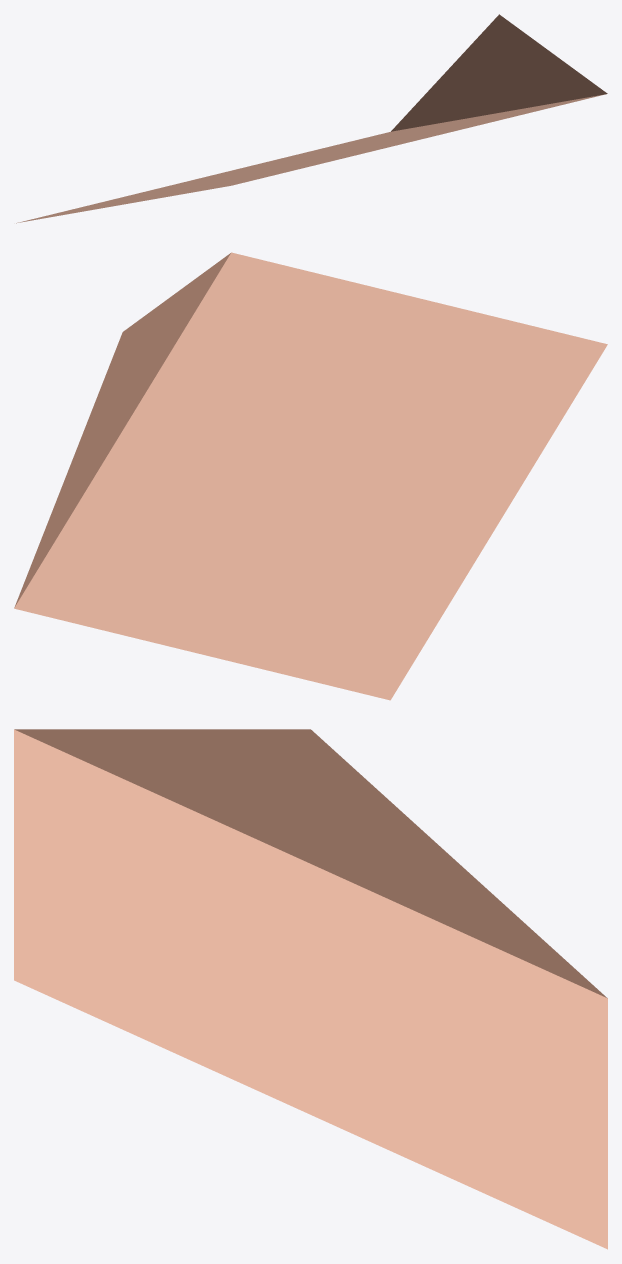
The model's file is terrain-ramp.glb.
3 views of the same model, one above another, from view 1: azimuth 30°, elevation 25°; view 2: azimuth 150°, elevation 25°; view 3: azimuth 270°, elevation 25° (orthographic). The views are drawn at different scales.
Parts seen in each view (by area): view 1: terrain_ramp; view 2: terrain_ramp; view 3: terrain_ramp.
Boxes of the visible parts, box(x1,y1,x2,y2) form: terrain_ramp: box(16, 14, 607, 223); terrain_ramp: box(14, 252, 607, 700); terrain_ramp: box(14, 729, 607, 1249).
Bounding box in the file's own units: 1 × 0.5 × 1.
